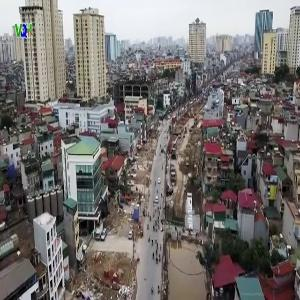drone: (78, 185, 130, 237)
